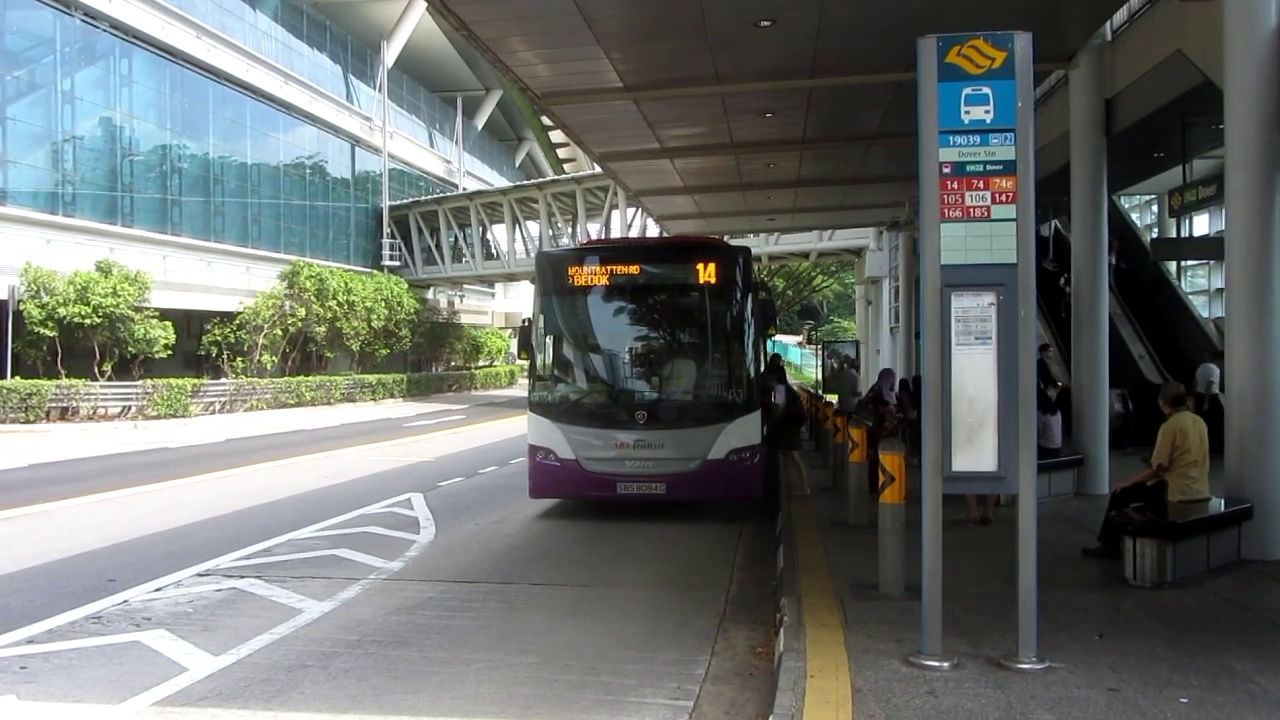bus panel: (562, 261, 722, 289)
